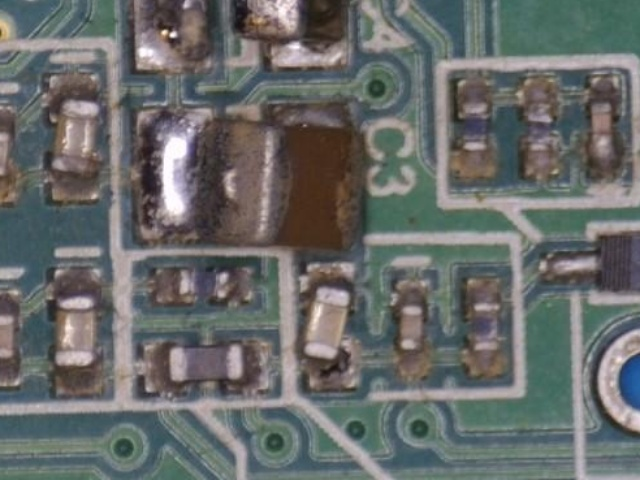pcb_defect: (131, 97, 368, 252), (130, 0, 351, 75), (299, 260, 361, 394)
